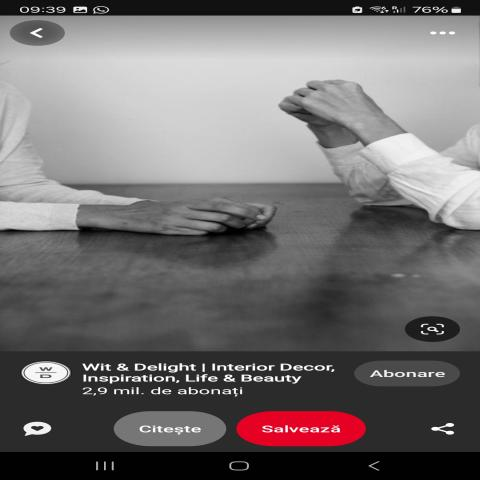hands: (55, 162, 319, 266), (258, 56, 432, 153)
